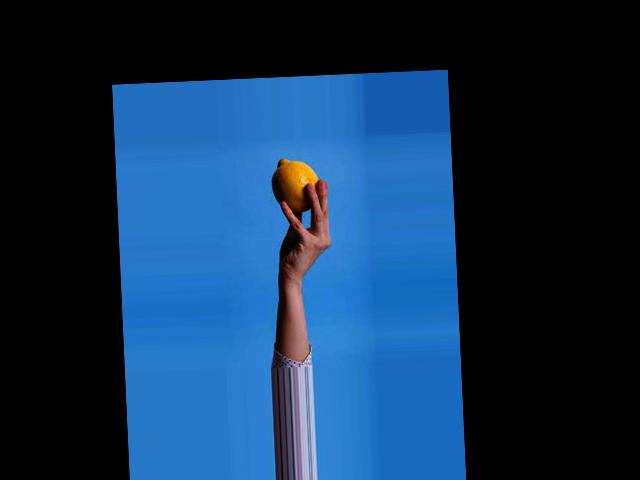lemon: (266, 154, 339, 227)
